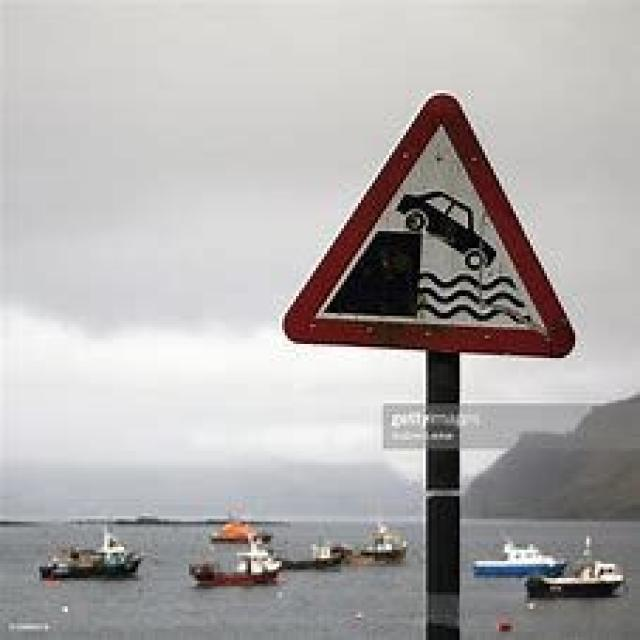quay side or river bank: (280, 90, 574, 361)
